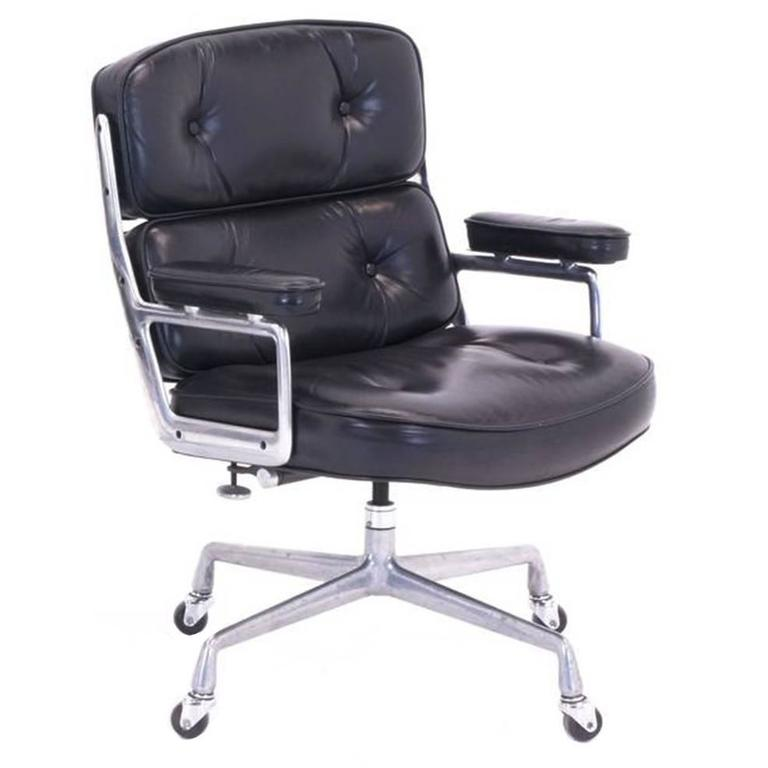chairs: (91, 18, 656, 742)
